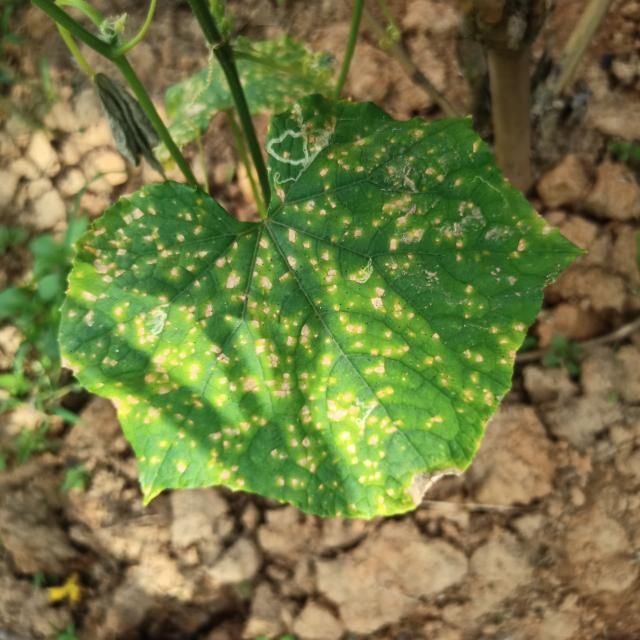disease_cucumber: (82, 140, 539, 496)
